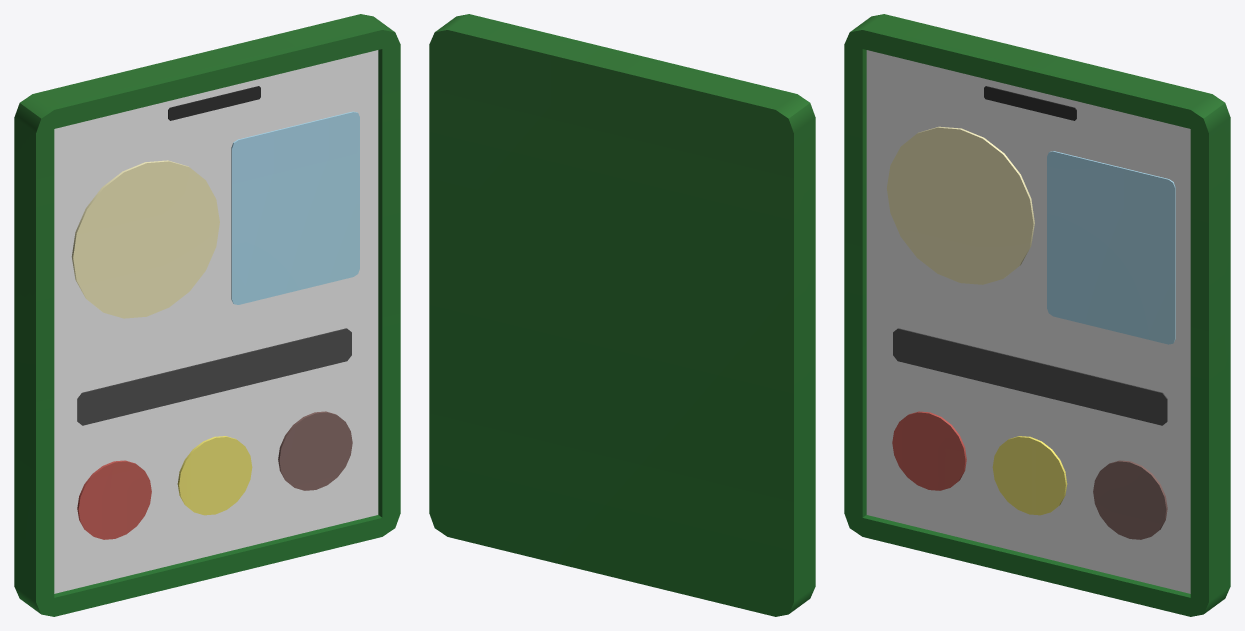
The model's file is Pad.fbx.
3 views of the same model, side by side, from view 1: azimuth 30°, elevation 25°; view 2: azimuth 150°, elevation 25°; view 3: azimuth 330°, elevation 25° (orthographic).
Parts seen in each view (by area): view 1: Pad; view 2: Pad; view 3: Pad.
Part boxes in pixels (x1,y1,x2,y2): Pad: (14,14,400,616); Pad: (429,14,815,616); Pad: (844,14,1230,616).
Bounding box in the file's own units: 388 × 516 × 39.98.
